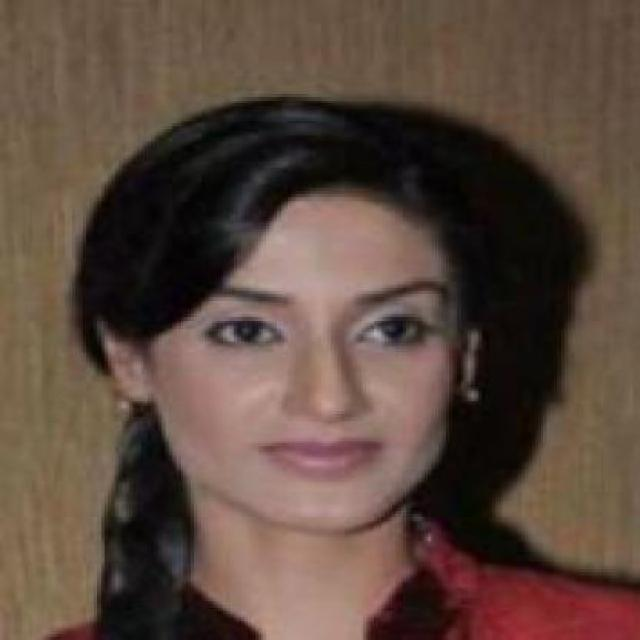closed-mouth: (262, 424, 393, 482)
